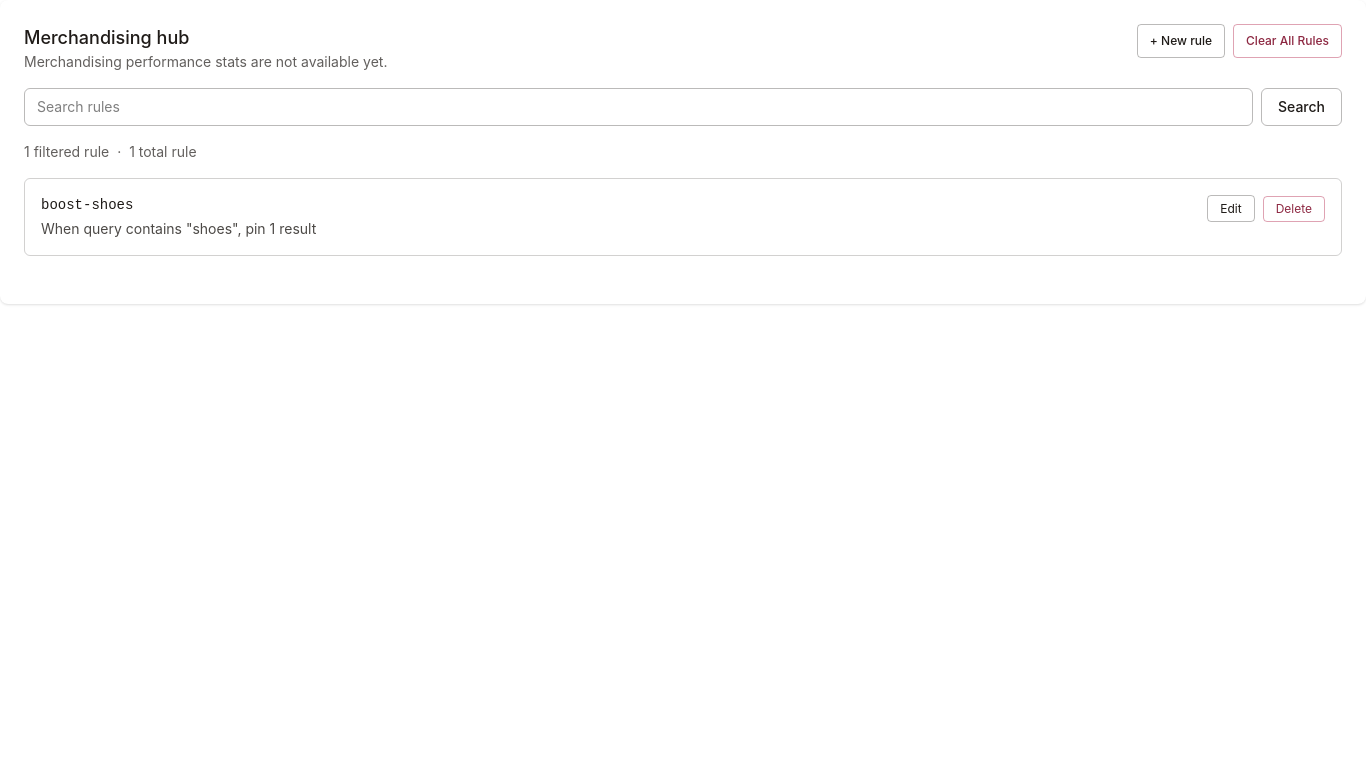
MerchandisingTab › persistence forms › opens a declarative builder instead of conditions or validity JSON authoring
Click the button "+ New rule" at point(1181, 41), box [1137, 24, 1225, 58]
(page scrolled)
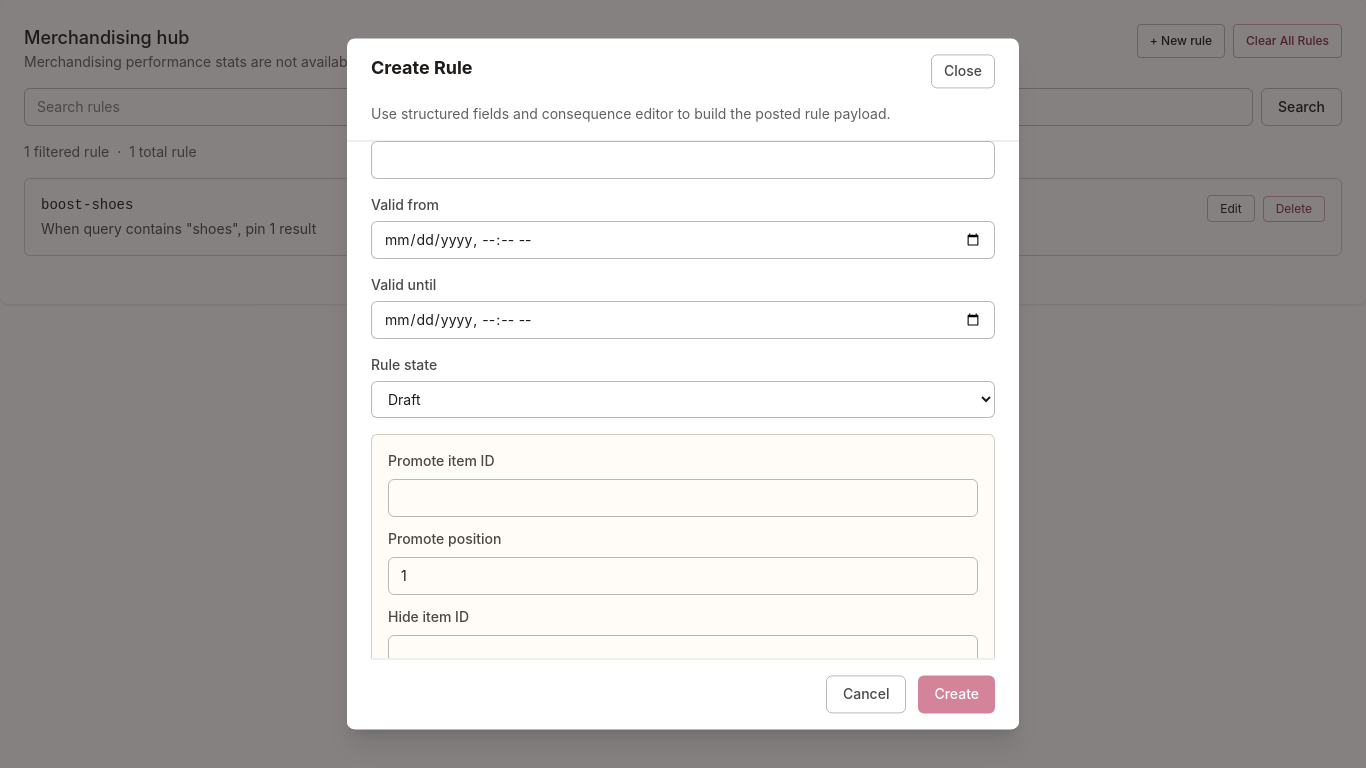
Expected: the field labelled "Filter scope" is shown, [371, 141, 995, 179]
Expected: the field labelled "Promote item ID" is shown, [388, 479, 978, 517]
Expected: the dropdown labelled "Rule state" is shown, [371, 381, 995, 418]
